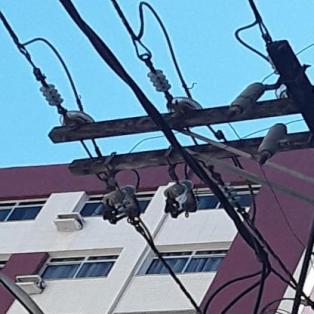Poste: (172, 68, 314, 314)
